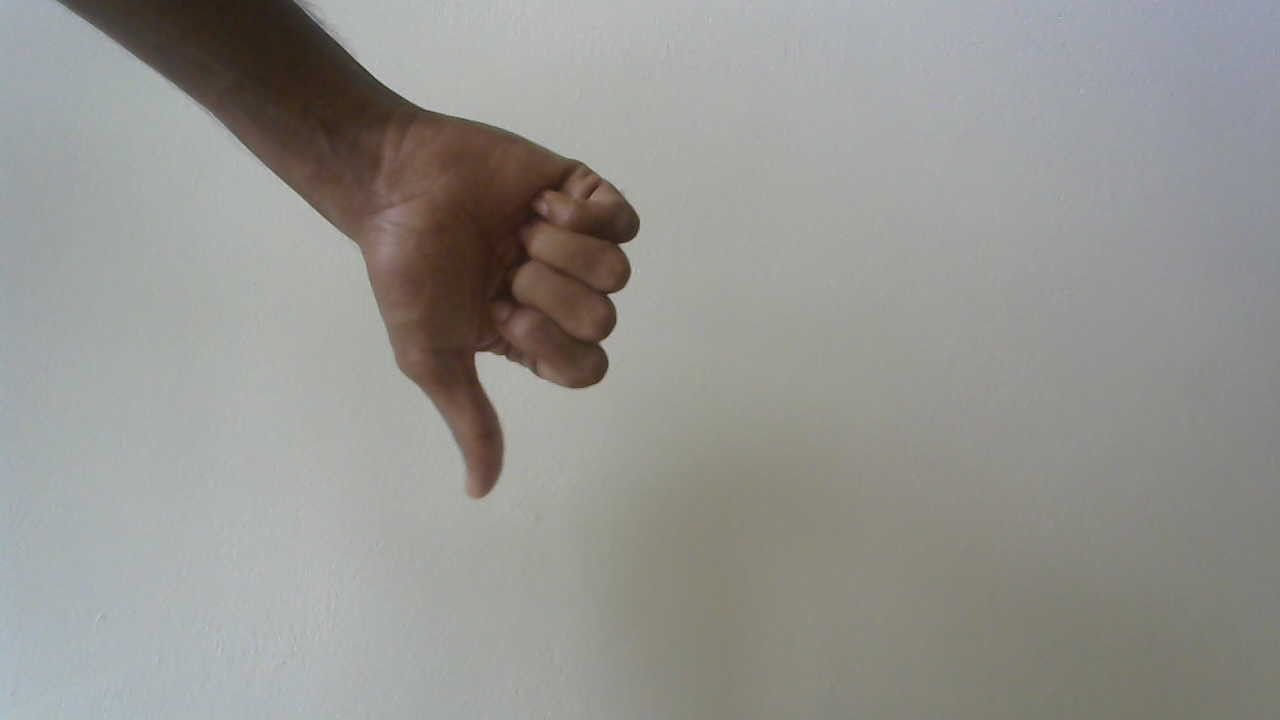thumbsdown: (342, 49, 642, 508)
